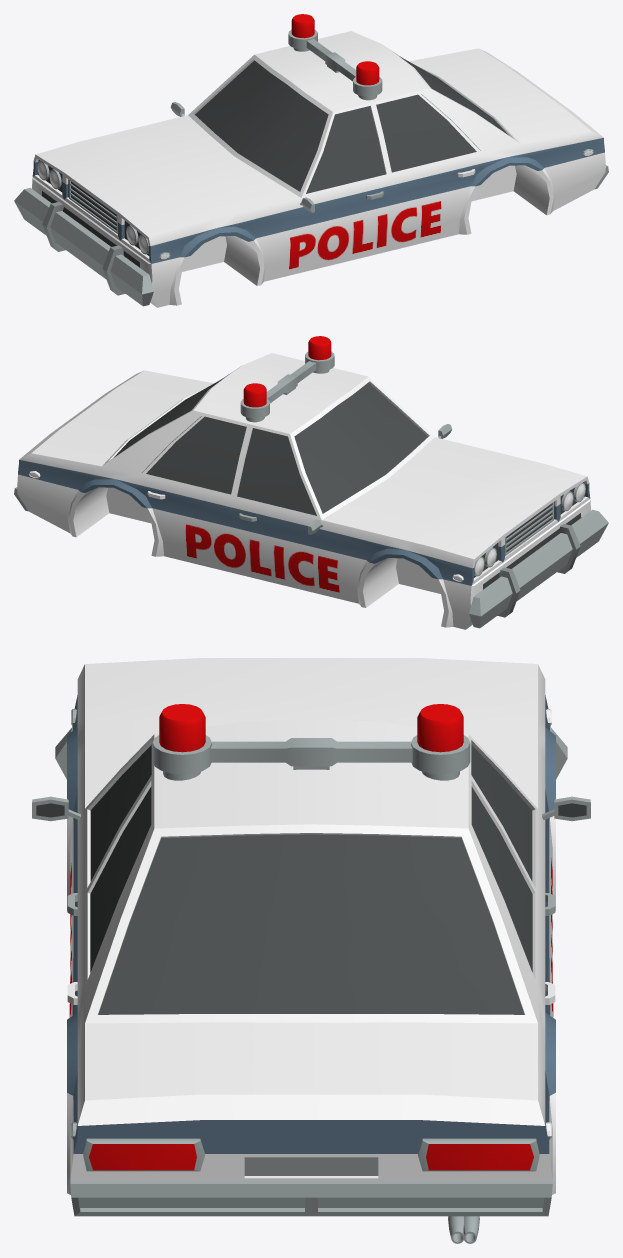
The model's file is police-car.gltf.
The picture shows the model from 3 angles, top to bottom: view 1: azimuth 30°, elevation 25°; view 2: azimuth 150°, elevation 25°; view 3: azimuth 270°, elevation 25°; orthographic projection. The views are drawn at different scales.
Visible parts, largest first — view 1: car9; view 2: car9; view 3: car9.
Part boxes in pixels (box(x1,y1,x2,y2)): car9: box(14, 14, 608, 307); car9: box(14, 336, 608, 629); car9: box(32, 658, 590, 1243).
Size of the model in its own units: 4.13 by 1.41 by 2.11.
1 material, 1 textured.
